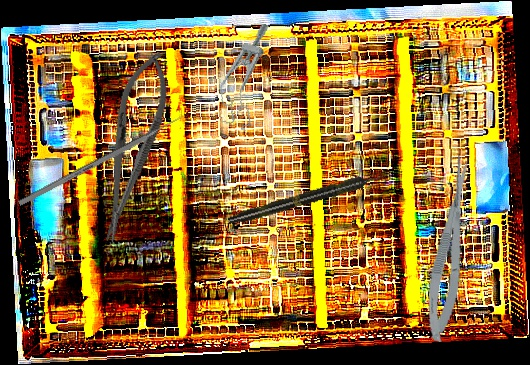Handpiece: (226, 169, 388, 228)
Micro Scissor: (418, 153, 483, 344)
Needle Holder: (85, 45, 179, 248)
Pusher: (17, 110, 192, 207)
Speculum: (211, 17, 277, 132)
